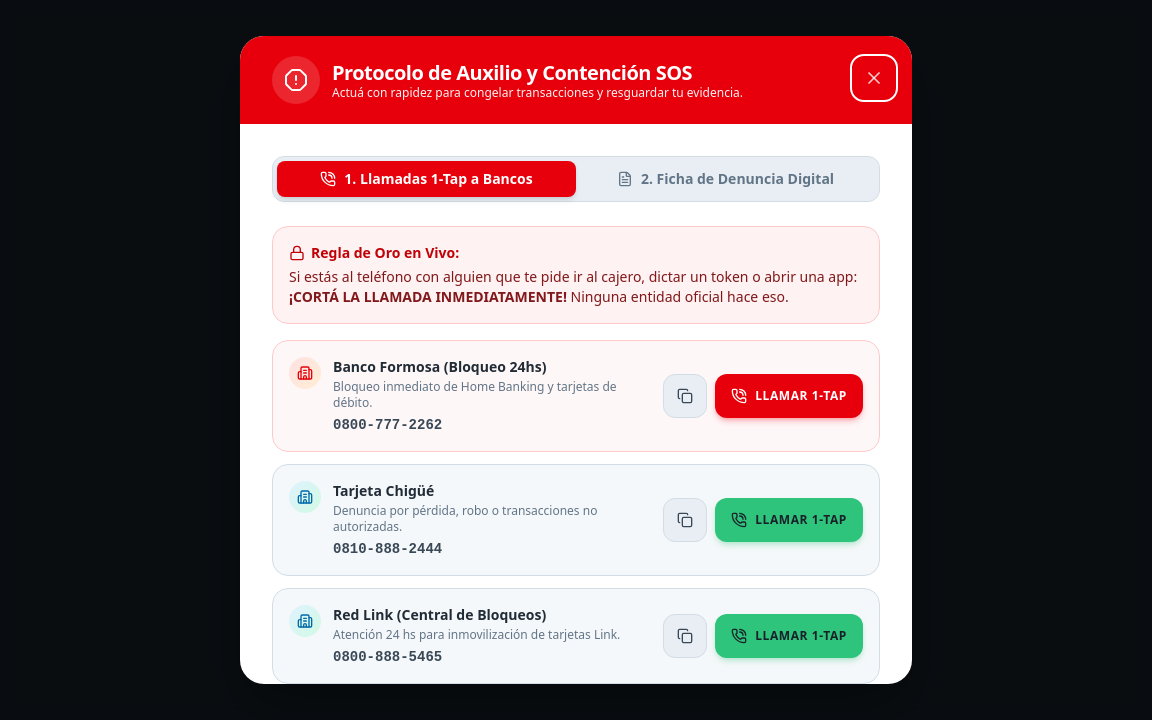
Test case: SosModal & EmergencyCallsPanel › no genera la ficha si falta el canal y marca el campo con error
Click the tab "2. Ficha de Denuncia Digital".
click(726, 179)  # box [576,161,875,197]
(page scrolled)
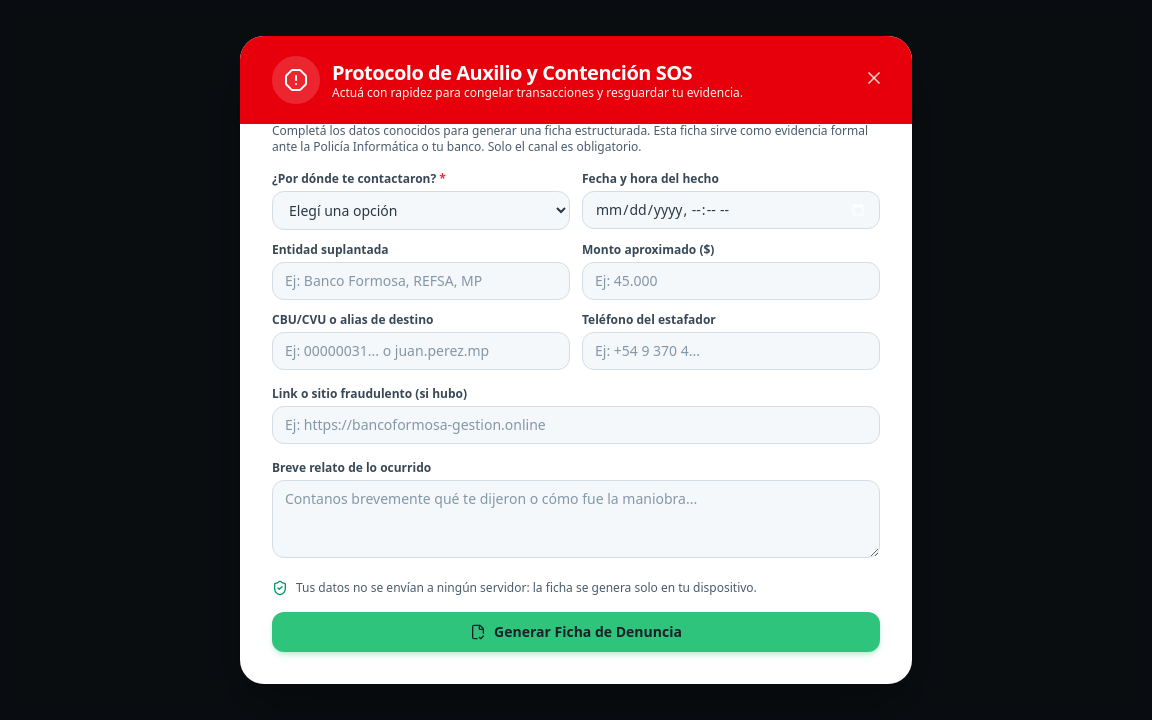
Click the button "Generar Ficha de Denuncia".
click(576, 632)  # box [272,612,880,652]
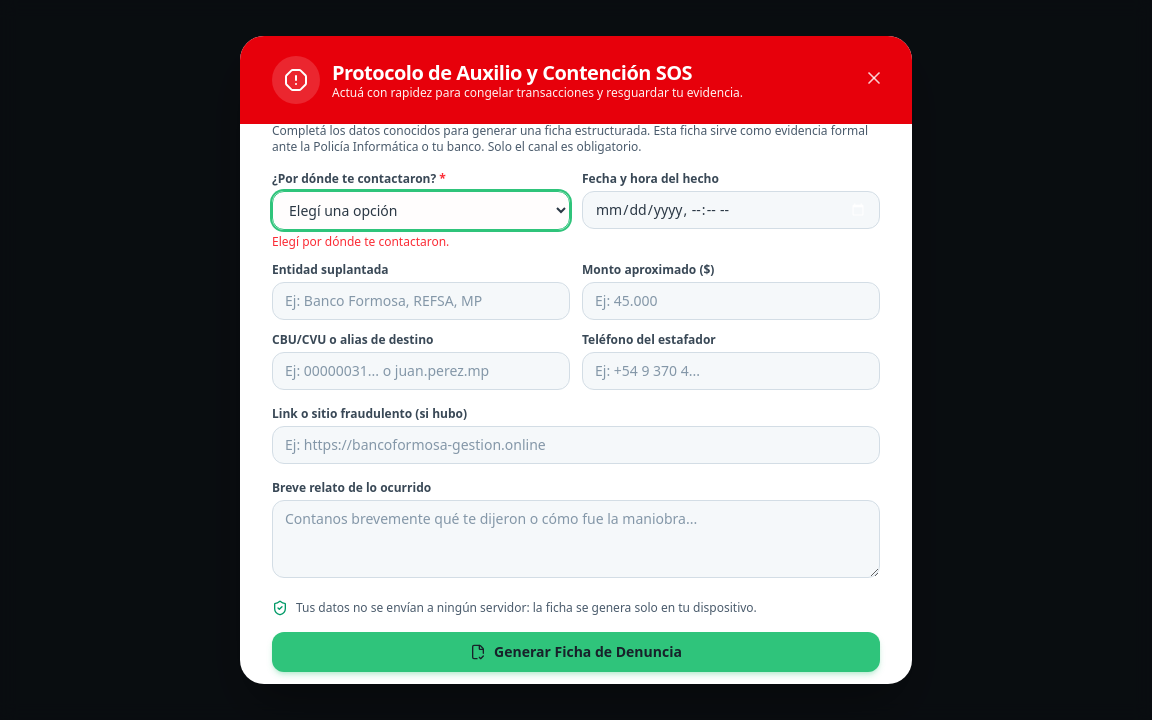
Expected: the text "Elegí por dónde te contactaron." is shown, [272,233,449,250]
